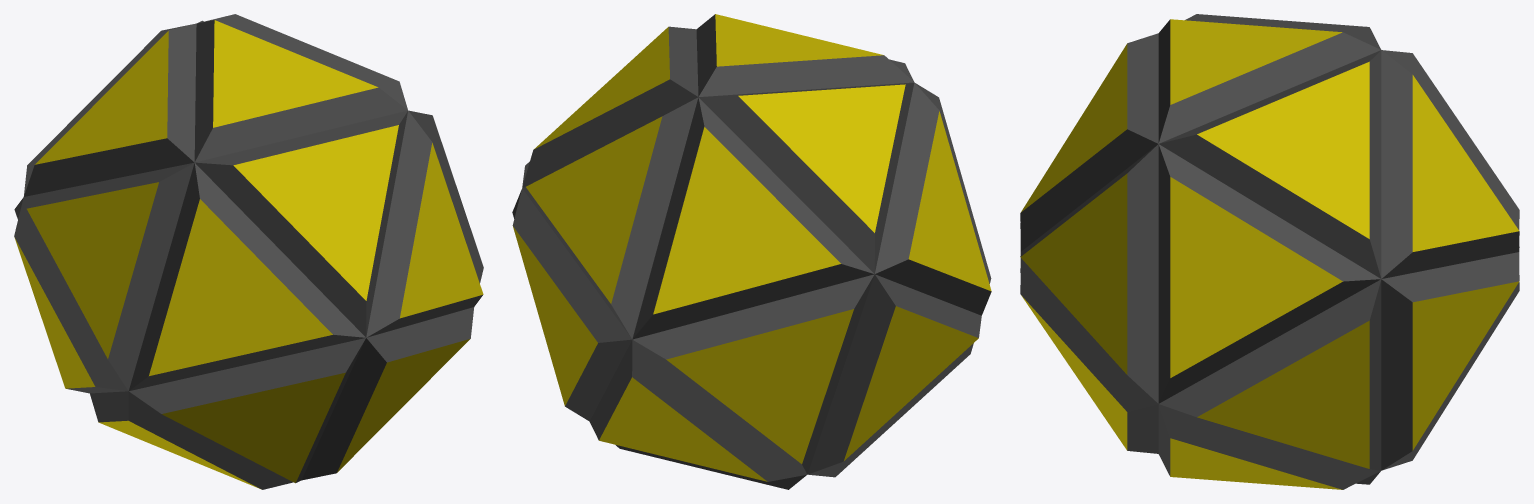
File: ScifiObject.fbx
3 views of the same model, side by side, from view 1: azimuth 30°, elevation 25°; view 2: azimuth 150°, elevation 25°; view 3: azimuth 270°, elevation 25° (orthographic). The views are drawn at different scales.
Visible parts, largest first — view 1: Sides, Body; view 2: Sides, Body; view 3: Sides, Body.
Boxes of the visible parts, x1,y1,x2,y2 form: Sides: (14, 20, 483, 488); Body: (14, 14, 483, 489); Sides: (513, 14, 991, 481); Body: (512, 14, 991, 489); Sides: (1020, 19, 1519, 489); Body: (1020, 14, 1519, 489).
Bounding box in the file's own units: 0.9254 × 0.973 × 1.
